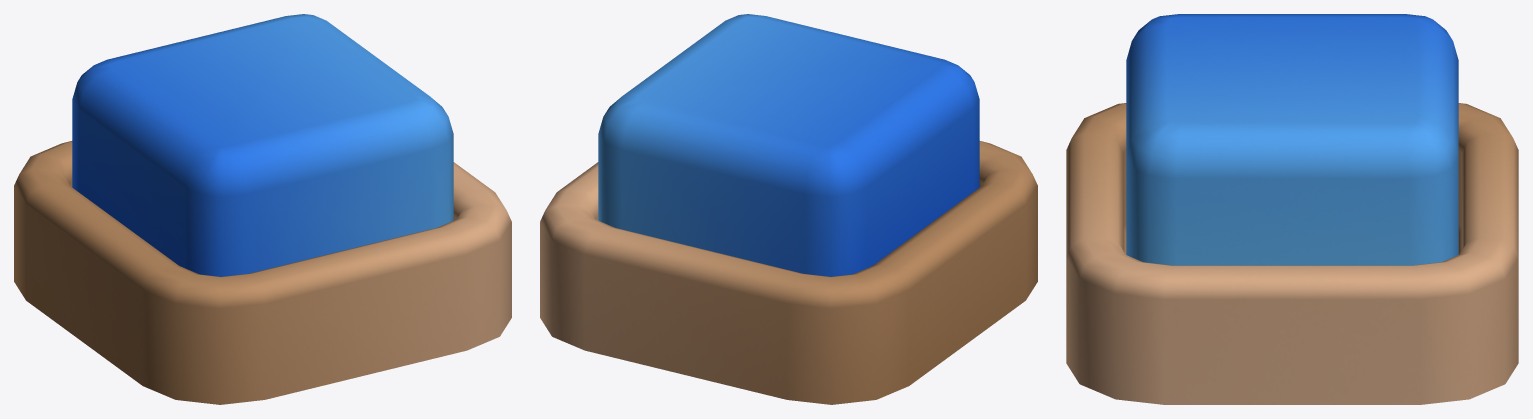
Rendered from ButtonSquare.fbx.
The picture shows the model from 3 angles, left to right: view 1: azimuth 30°, elevation 25°; view 2: azimuth 150°, elevation 25°; view 3: azimuth 270°, elevation 25°; orthographic projection. The views are drawn at different scales.
Visible parts, largest first — view 1: Square, ButtonSquare; view 2: Square, ButtonSquare; view 3: Square, ButtonSquare.
Boxes of the visible parts, x1,y1,x2,y2 form: Square: [72, 14, 453, 276]; ButtonSquare: [14, 141, 511, 404]; Square: [598, 14, 979, 276]; ButtonSquare: [540, 141, 1037, 404]; Square: [1126, 14, 1458, 265]; ButtonSquare: [1066, 103, 1518, 404].
Bounding box in the file's own units: 120 × 70.17 × 120.
